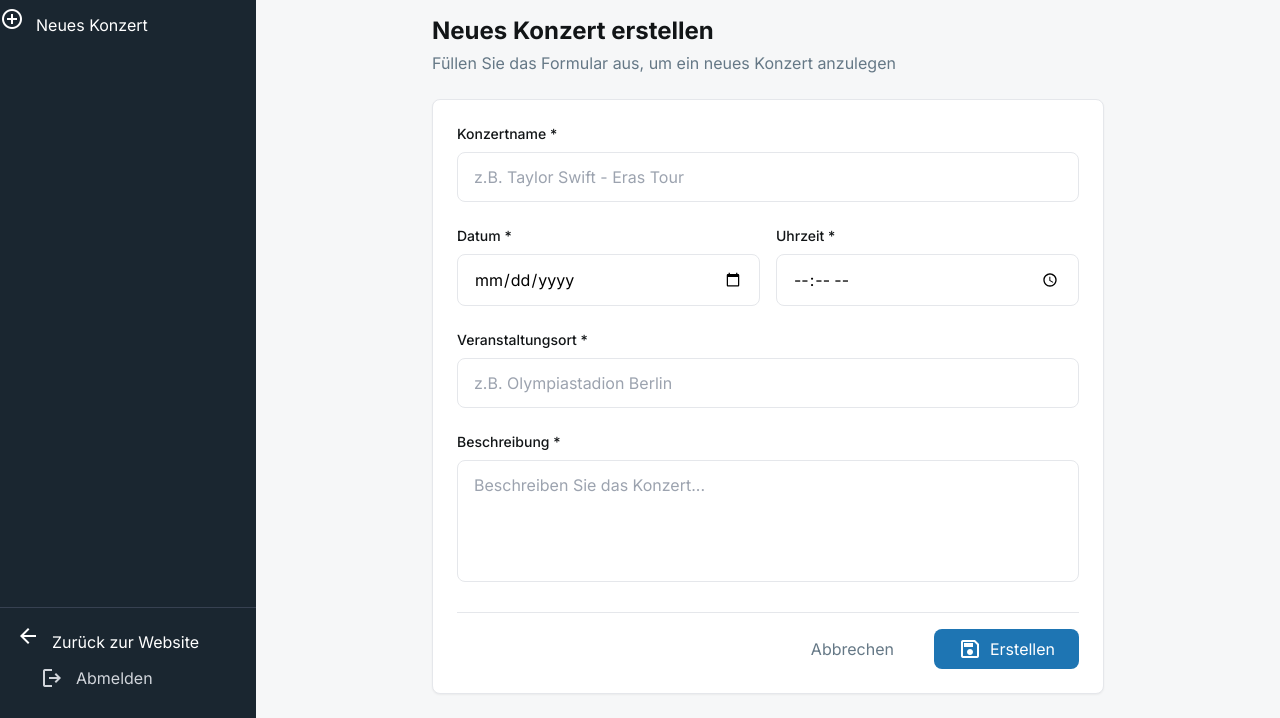
CreateConcertPage › zeigt Validierungsfehler bei leerem Formular
(page scrolled)
Check: the heading "Neues Konzert erstellen" is shown, box [432,16,714,45]
# Klicke auf Erstellen ohne Felder auszufüllen
Click the button "Erstellen": coordinates (1006, 649) [934,629,1079,669]
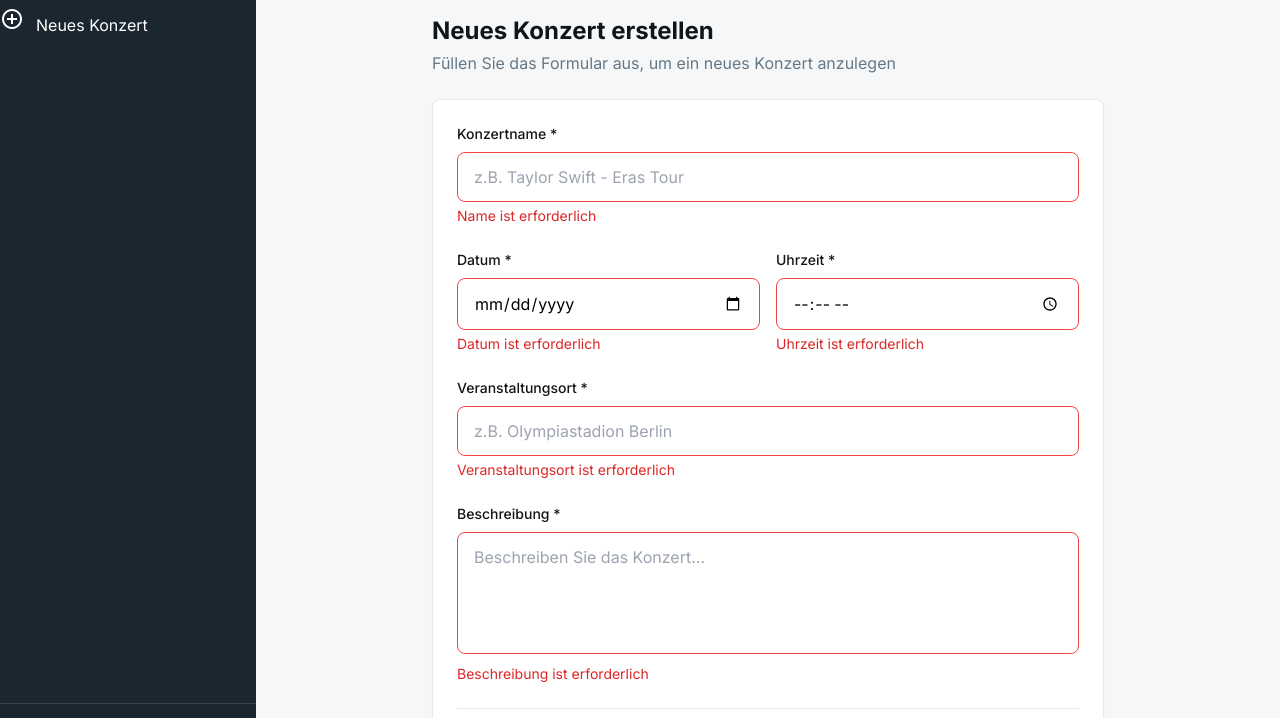
Check: the text "Name ist erforderlich" is shown, box [457,207,596,224]
